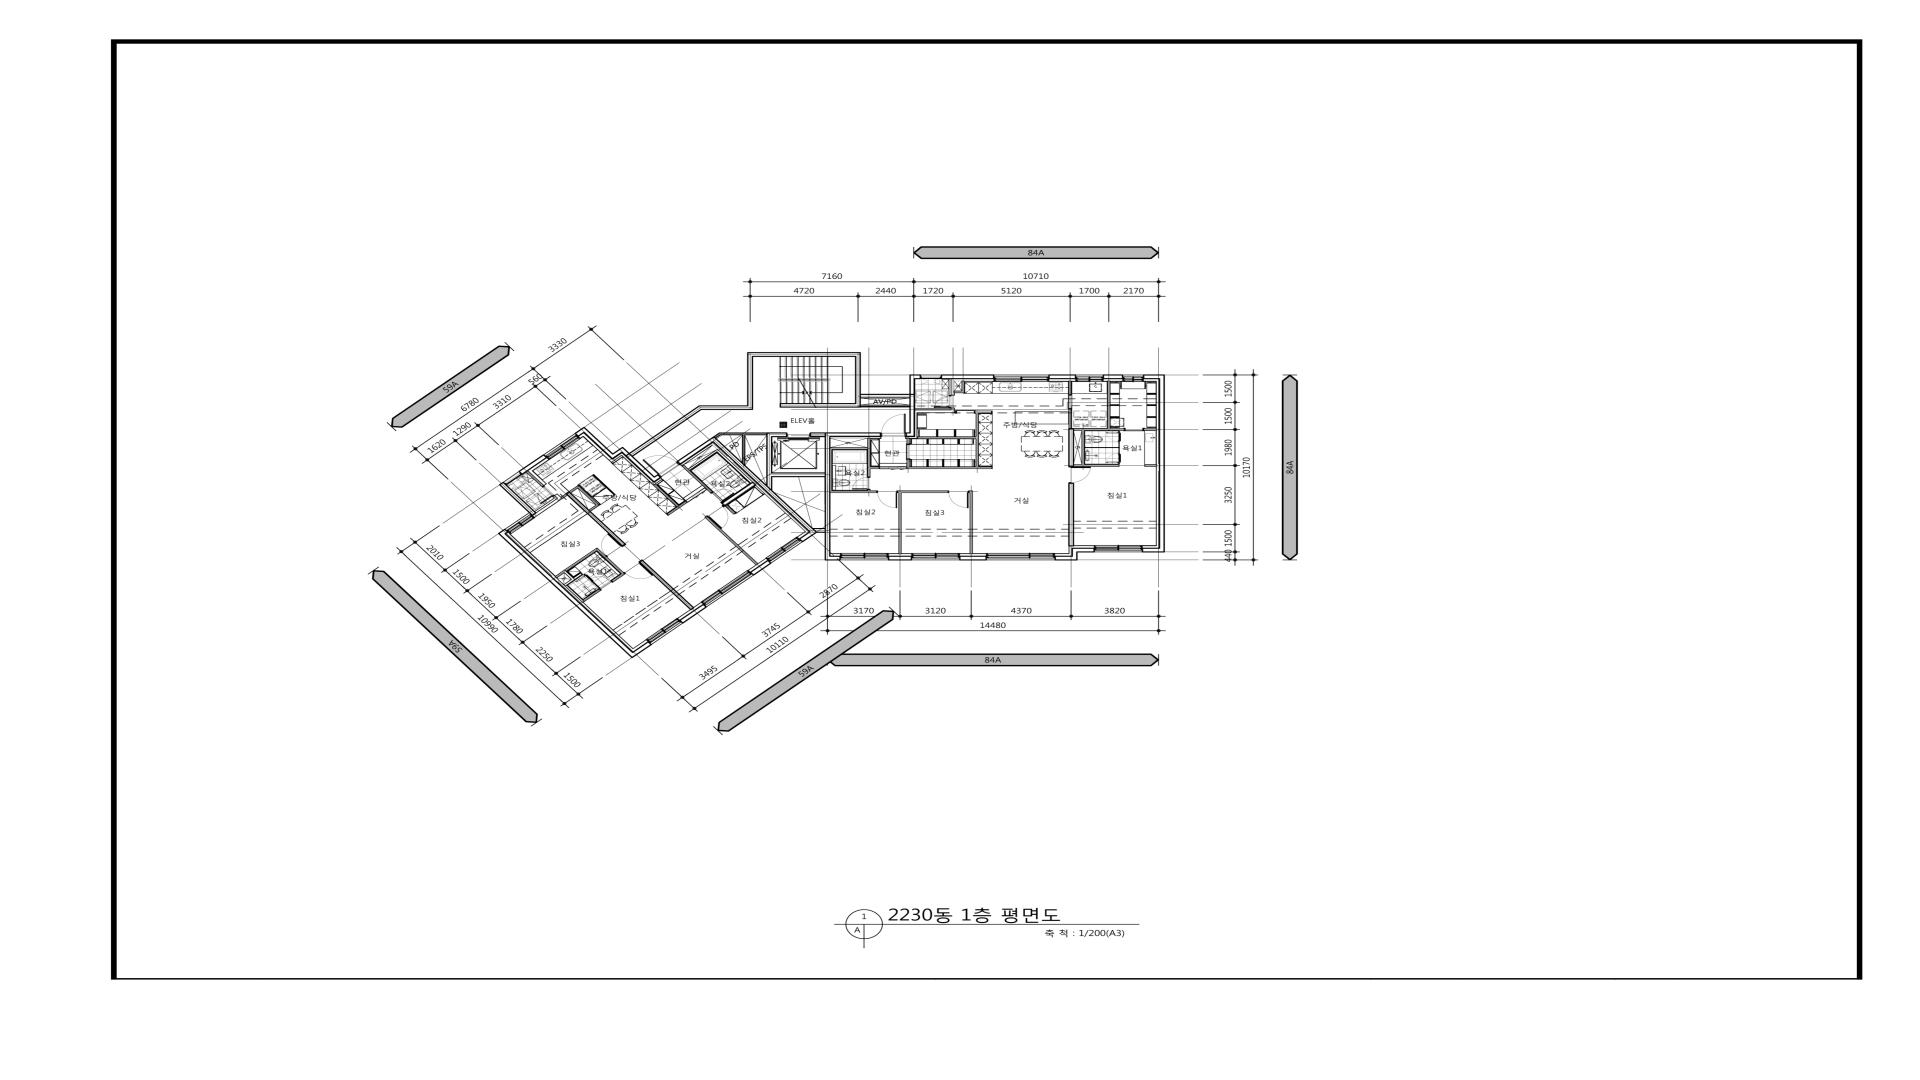background: (0, 0, 1920, 1080)
door: (642, 448, 680, 477), (592, 533, 623, 557), (707, 505, 738, 529), (624, 562, 653, 584), (881, 413, 906, 437), (588, 572, 613, 591), (710, 484, 735, 503), (531, 486, 555, 505), (948, 490, 970, 509), (877, 490, 898, 509), (1069, 467, 1091, 483), (686, 488, 707, 503), (852, 477, 870, 490), (934, 395, 952, 408), (879, 466, 907, 470), (1124, 428, 1144, 431), (1068, 395, 1072, 409)
wall: (502, 534, 633, 655), (713, 439, 813, 531), (629, 406, 701, 456), (565, 491, 626, 547), (639, 559, 694, 610), (704, 516, 758, 565), (716, 449, 753, 483), (499, 482, 536, 516), (676, 436, 718, 465), (1159, 379, 1165, 548), (622, 450, 654, 480), (681, 465, 713, 493), (721, 482, 756, 506), (583, 430, 613, 456), (595, 548, 624, 574), (564, 549, 597, 571), (518, 454, 547, 475), (653, 484, 679, 507), (825, 437, 830, 556), (688, 450, 717, 470), (679, 604, 707, 624), (747, 352, 855, 357), (576, 486, 600, 506), (628, 641, 652, 658), (780, 403, 861, 408), (1068, 483, 1074, 546), (750, 560, 772, 576), (566, 585, 585, 603), (666, 501, 688, 516), (766, 437, 772, 490), (909, 379, 915, 432), (535, 498, 556, 513), (855, 352, 861, 403), (747, 357, 753, 405), (526, 471, 544, 487), (826, 432, 881, 437), (699, 405, 753, 410), (772, 472, 825, 477), (941, 374, 994, 379), (907, 466, 993, 469), (969, 491, 973, 554), (799, 528, 817, 542), (1068, 428, 1074, 467), (608, 447, 626, 460), (582, 589, 600, 601), (861, 394, 909, 398), (899, 493, 902, 554), (898, 490, 948, 493), (719, 432, 767, 435), (1107, 381, 1110, 429), (830, 490, 876, 493), (1074, 464, 1119, 467), (1049, 374, 1076, 379), (830, 447, 833, 491), (917, 437, 976, 439), (867, 438, 870, 477), (575, 427, 588, 436), (612, 573, 625, 582), (1143, 374, 1165, 379), (976, 413, 978, 467), (650, 474, 662, 483), (959, 556, 986, 560), (563, 578, 575, 587), (766, 432, 787, 437), (833, 447, 867, 450), (1082, 430, 1085, 464), (1074, 428, 1124, 430), (861, 405, 910, 407), (888, 556, 912, 560), (1055, 556, 1078, 560), (742, 435, 745, 465), (725, 505, 735, 514), (1143, 548, 1165, 552), (1072, 548, 1094, 552), (498, 529, 509, 537), (555, 570, 566, 578), (1103, 375, 1123, 379), (573, 572, 583, 580), (811, 432, 826, 437), (915, 408, 951, 410), (564, 571, 573, 579), (813, 528, 825, 533), (825, 556, 840, 560), (909, 374, 921, 379), (1069, 409, 1072, 428), (1068, 381, 1072, 395), (655, 479, 664, 485), (589, 505, 598, 511), (569, 487, 578, 493), (949, 379, 952, 395), (906, 432, 915, 437), (1144, 428, 1157, 431), (714, 432, 720, 438), (962, 381, 965, 393), (1145, 464, 1157, 467), (975, 411, 991, 413), (561, 494, 567, 499), (870, 466, 879, 469), (1072, 552, 1078, 556), (552, 495, 558, 499), (907, 460, 910, 466), (954, 391, 962, 393)
window: (701, 570, 753, 607), (544, 434, 581, 460), (646, 618, 682, 644), (766, 537, 802, 563), (505, 513, 535, 534), (986, 553, 1055, 560), (994, 375, 1049, 382), (1094, 545, 1143, 552), (840, 553, 888, 560), (912, 553, 959, 560), (503, 471, 522, 485), (1076, 375, 1103, 382), (1123, 375, 1143, 382), (921, 375, 941, 379)
